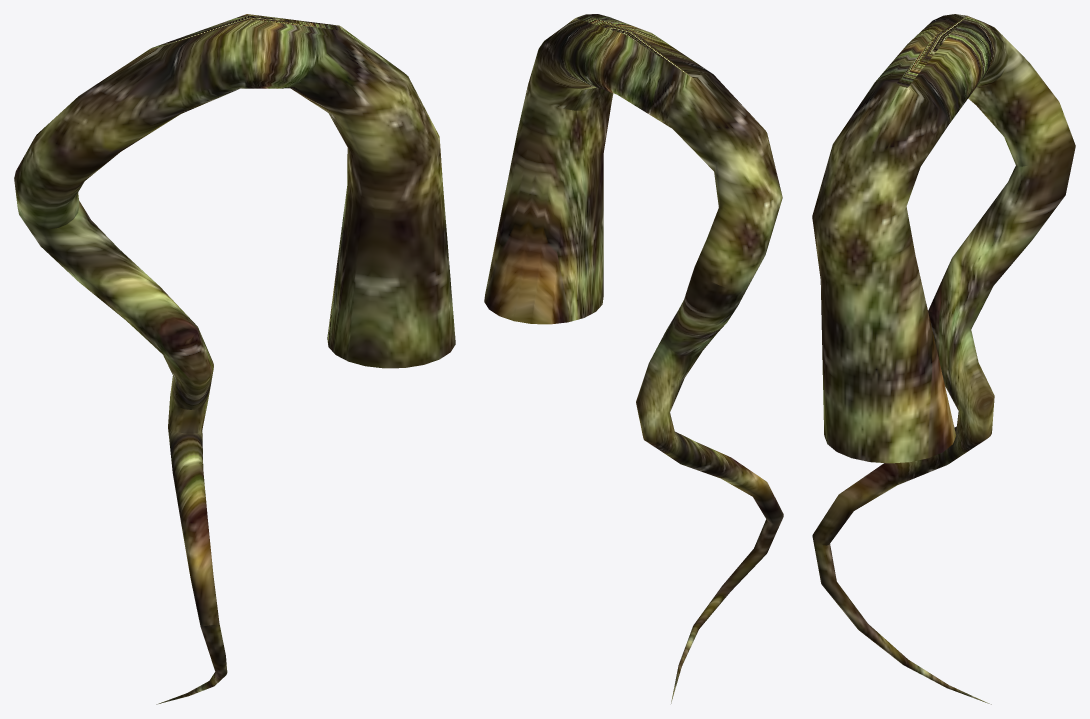
File: tentacle.fbx
The picture shows the model from 3 angles, left to right: view 1: azimuth 30°, elevation 25°; view 2: azimuth 150°, elevation 25°; view 3: azimuth 270°, elevation 25°; orthographic projection. The views are drawn at different scales.
Parts seen in each view (by area): view 1: polySurface39; view 2: polySurface39; view 3: polySurface39.
Boxes of the visible parts, <box> form: polySurface39: <box>14,14,455,704</box>; polySurface39: <box>484,14,783,703</box>; polySurface39: <box>812,14,1075,704</box>.
Size of the model in its own units: 0.0964 by 0.176 by 0.0598.
